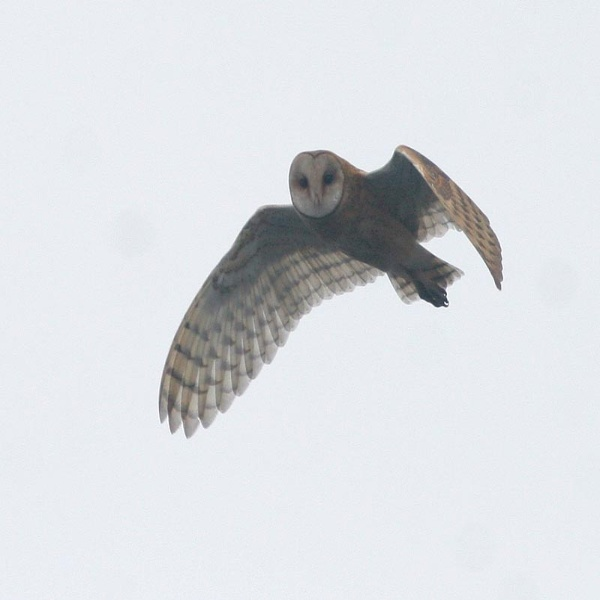bird: (154, 139, 509, 441)
